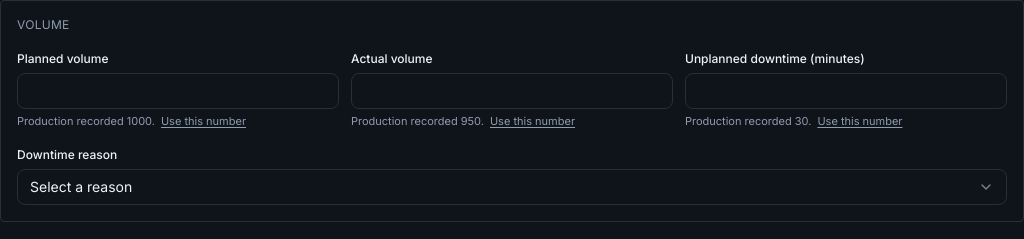
Test: VolumePillar › offers production's number as text, and only fills the field once the person accepts it
Expected: the number field labelled "Actual volume" is empty, [351,73,673,109]
Step 1. Click the button "Use this number" next to "950" → (532, 121), box [490,113,575,129]
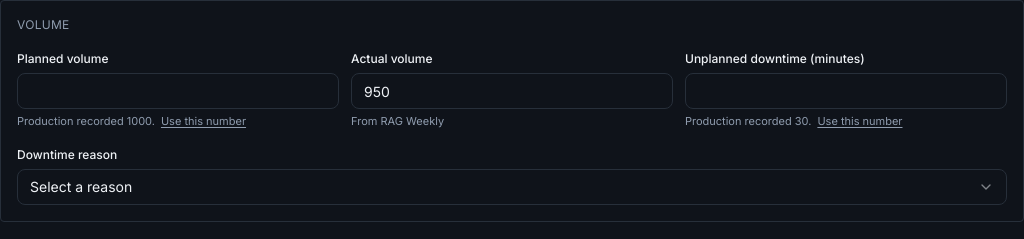
Expected: the number field labelled "Actual volume" holds "950", [351,73,673,109]
Expected: the text "From RAG Weekly" is shown, [351,114,444,128]
